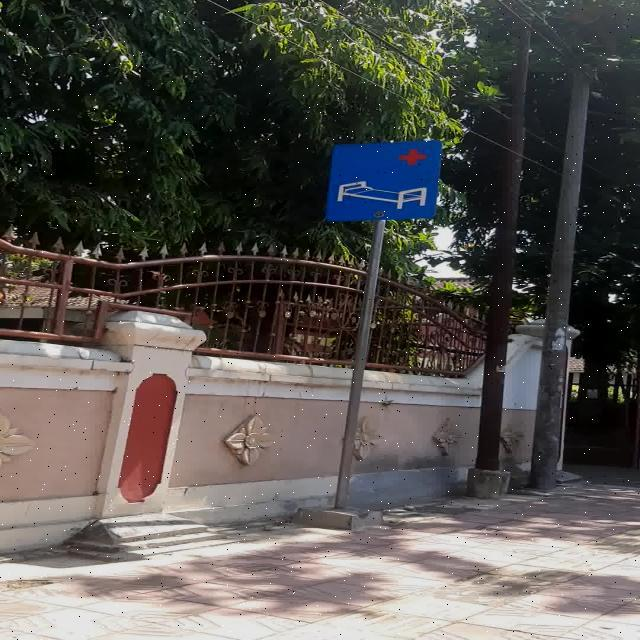Rumah Sakit: (326, 141, 442, 221)
